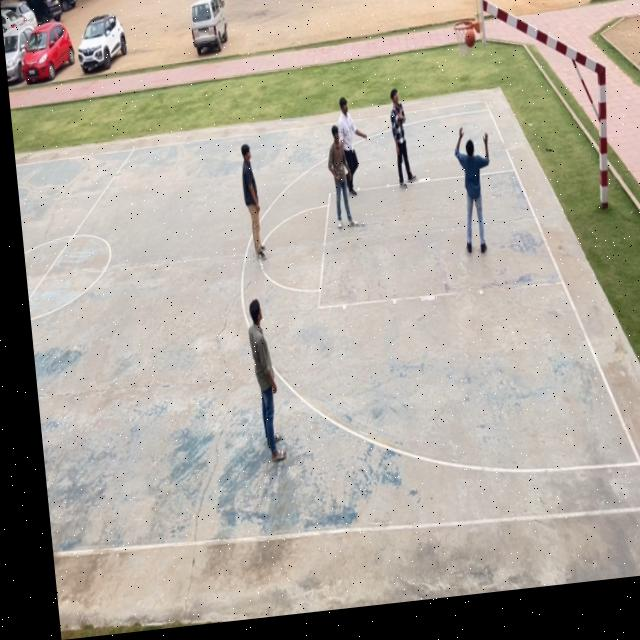basketball: (465, 29, 476, 47)
hoop: (454, 22, 477, 56)
